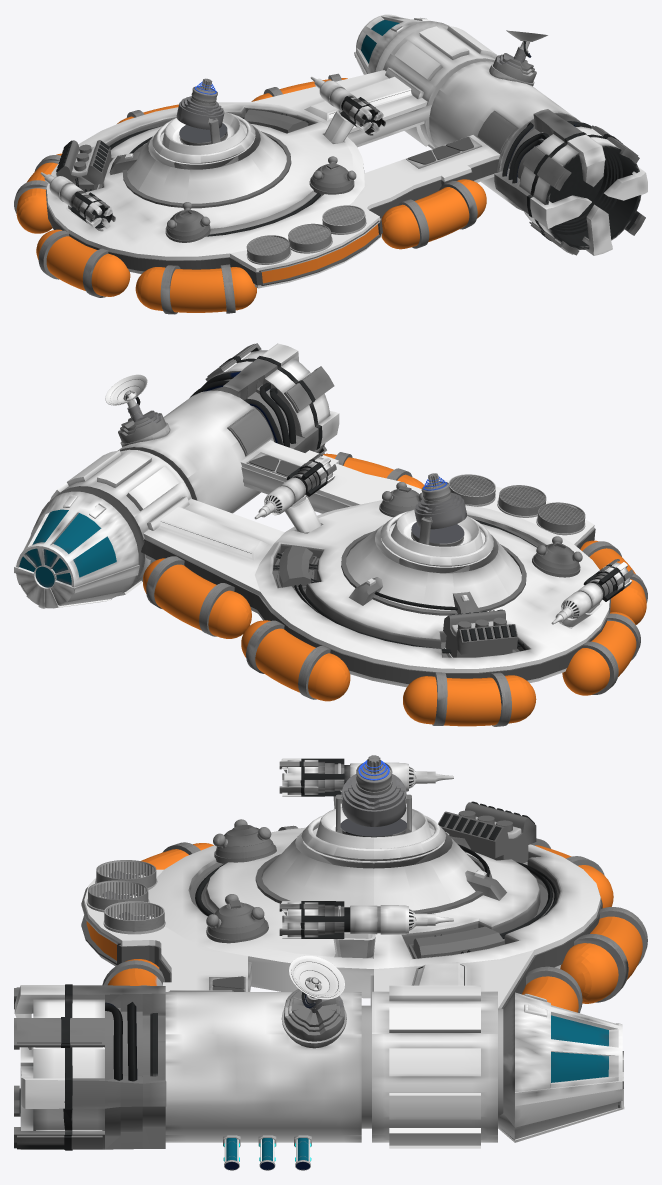
The model's file is Spaceship.fbx.
3 renders of one model, top to bottom at view 1: azimuth 30°, elevation 25°; view 2: azimuth 150°, elevation 25°; view 3: azimuth 270°, elevation 25°, orthographic. The views are drawn at different scales.
Parts seen in each view (by area): view 1: Space Ship; view 2: Space Ship; view 3: Space Ship.
Boxes of the visible parts, <box> form: Space Ship: <box>14,14,647,314</box>; Space Ship: <box>14,343,647,726</box>; Space Ship: <box>14,755,647,1170</box>.
Bounding box in the file's own units: 8866 × 2820 × 7130.
